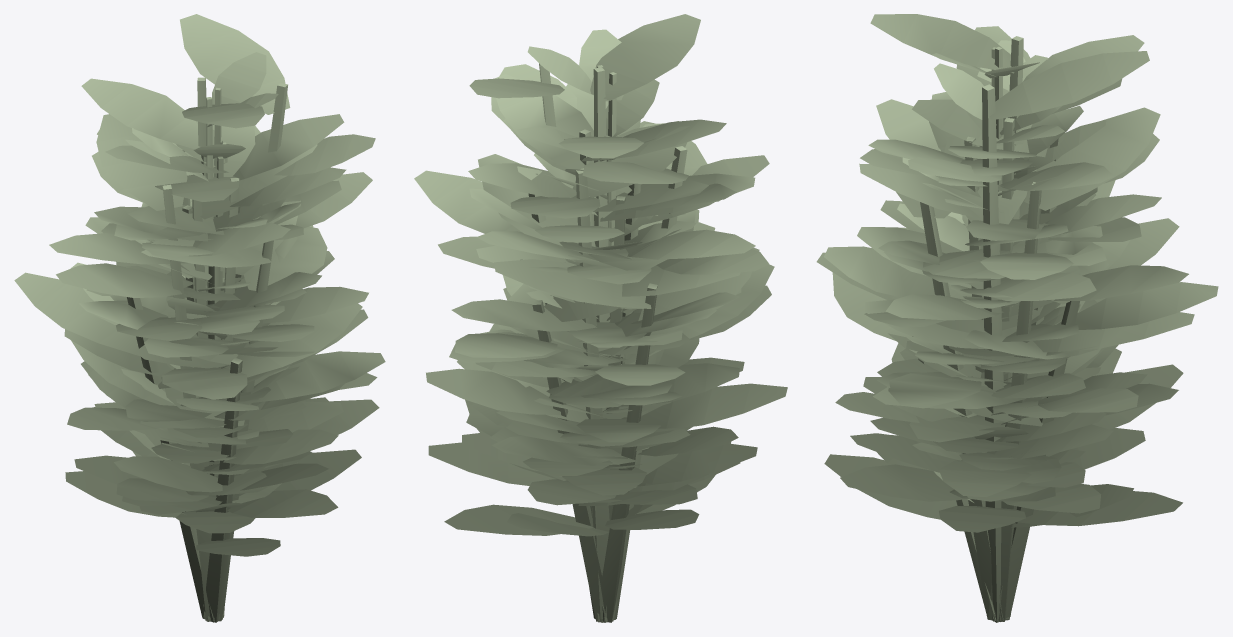
File: layer_vine.glb
The picture shows the model from 3 angles, left to right: view 1: azimuth 30°, elevation 25°; view 2: azimuth 150°, elevation 25°; view 3: azimuth 270°, elevation 25°; orthographic projection. The views are drawn at different scales.
Visible parts, largest first — view 1: v0_foliage, v1_foliage, v2_foliage; view 2: v0_foliage, v1_foliage, v2_foliage; view 3: v0_foliage, v1_foliage, v2_foliage.
Boxes of the visible parts, x1=… form: v0_foliage: x1=14, y1=14, x2=385, y2=622; v1_foliage: x1=49, y1=77, x2=368, y2=622; v2_foliage: x1=121, y1=52, x2=306, y2=514; v0_foliage: x1=414, y1=63, x2=787, y2=622; v1_foliage: x1=462, y1=14, x2=769, y2=622; v2_foliage: x1=516, y1=29, x2=696, y2=517; v0_foliage: x1=816, y1=51, x2=1218, y2=622; v1_foliage: x1=850, y1=14, x2=1161, y2=622; v2_foliage: x1=897, y1=40, x2=1106, y2=502.
Bounding box in the file's own units: 0.6314 × 1 × 0.6221.
